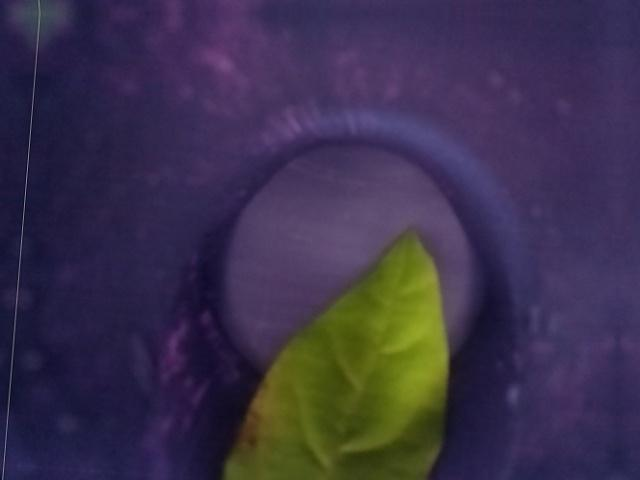feuille: (214, 209, 468, 479)
